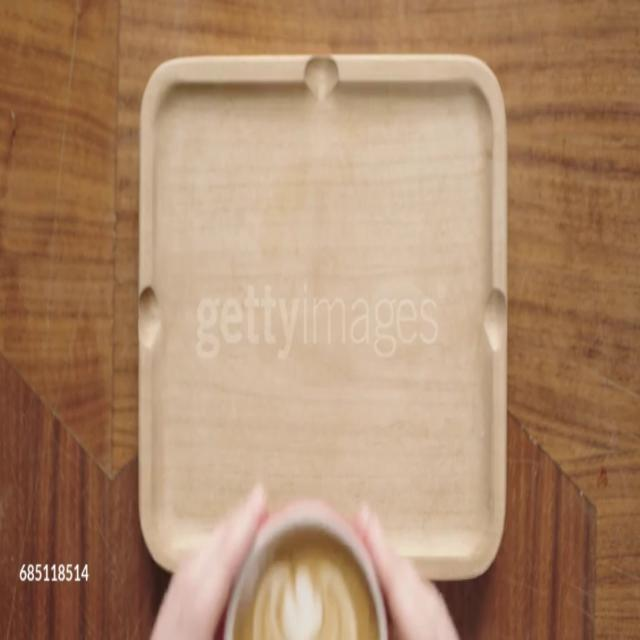cup: (220, 499, 390, 640)
tray: (140, 53, 508, 580)
